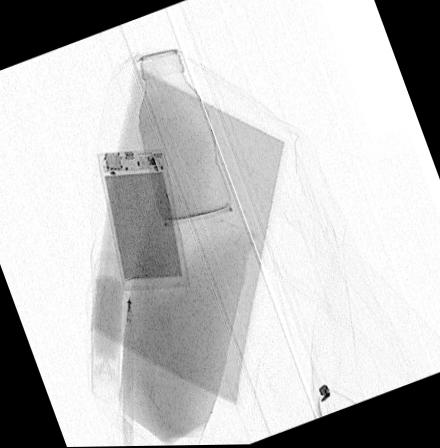Powerbank: (95, 151, 188, 292)
